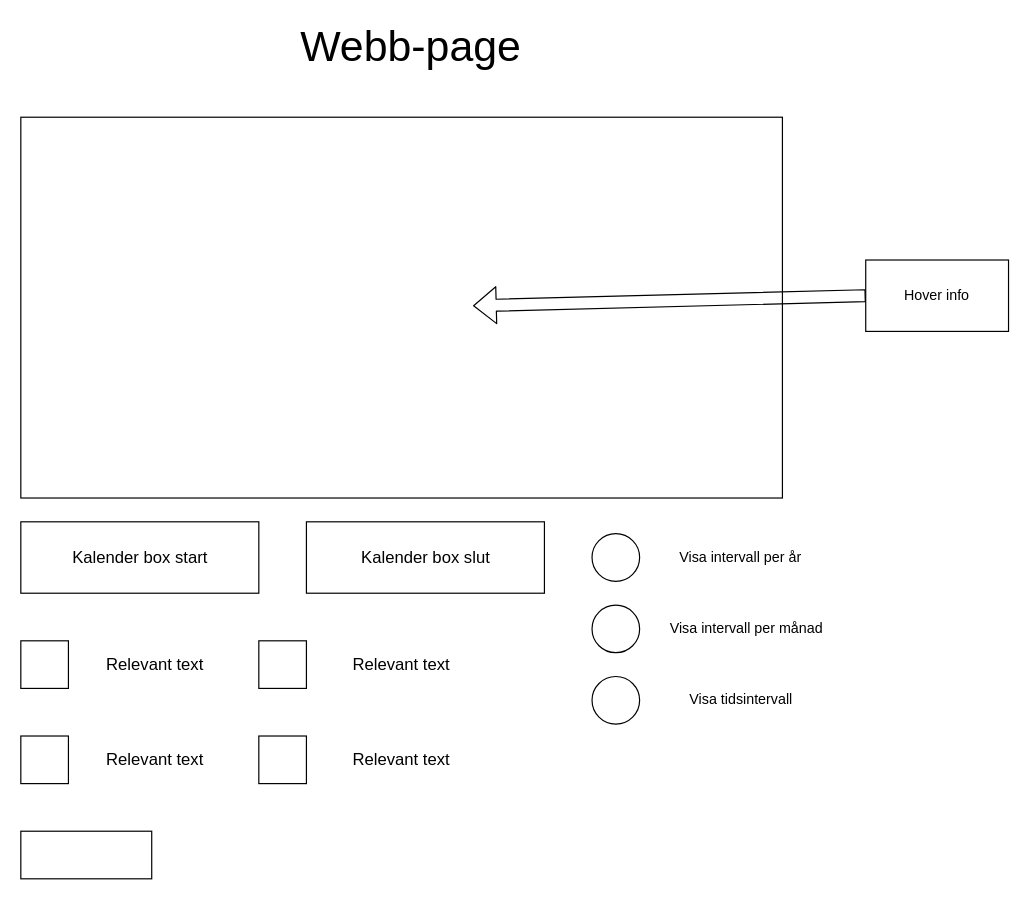
Some shapes in this 1029 by 900 pixel diagram are drawn without their labels. The box of each missing label's shape, as (x1, y1, x2, y2) in pixels:
Rita graf: (20, 830, 152, 879)
Vacker graf: (20, 116, 782, 498)
